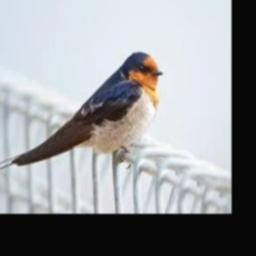Swallow: (0, 52, 163, 172)
